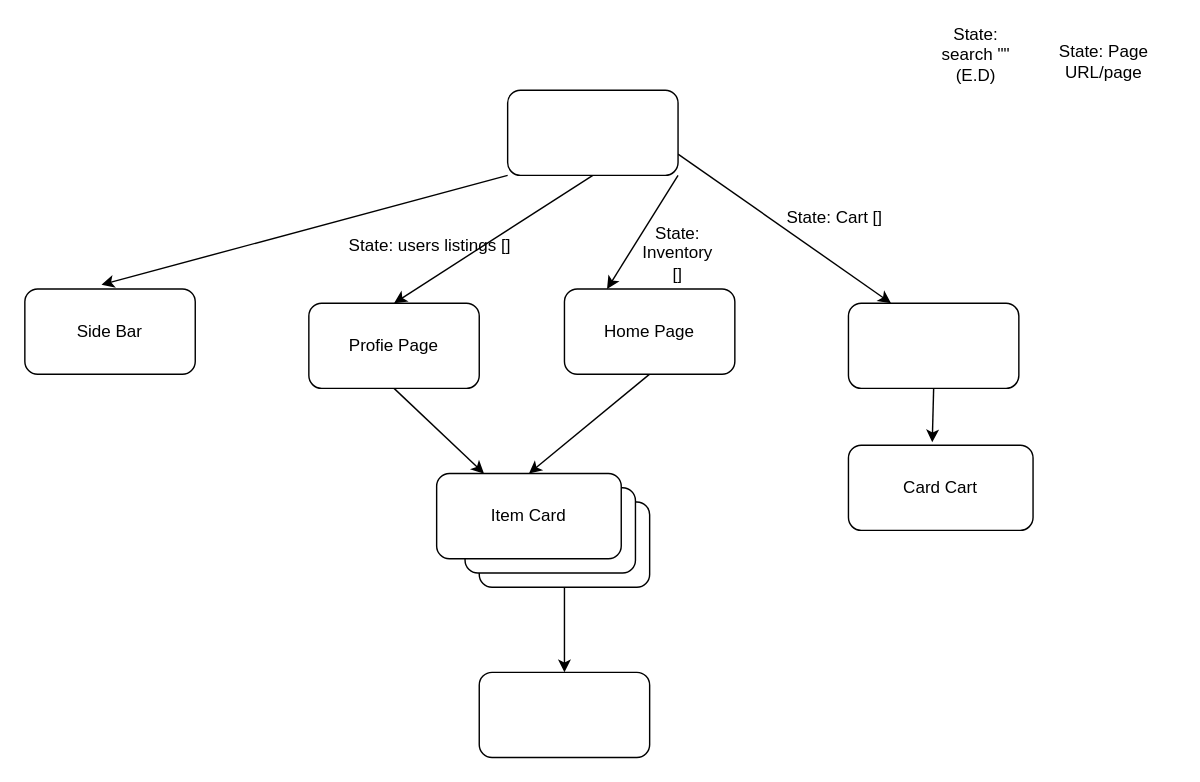
Image size: 1200x782. Some labels were removed from this diagram. The centre of each missing label's shape, as x and y in pixels:
"App" goes at point (592, 132).
"Cart Page" goes at point (933, 345).
"Detail Page" goes at point (564, 714).
